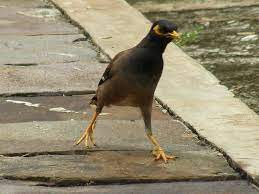Walking: (67, 6, 189, 164)
